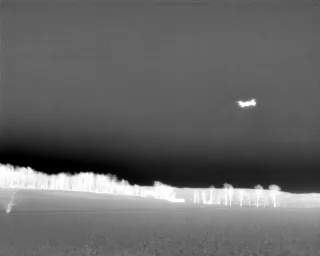DRONE: (233, 94, 262, 113)
